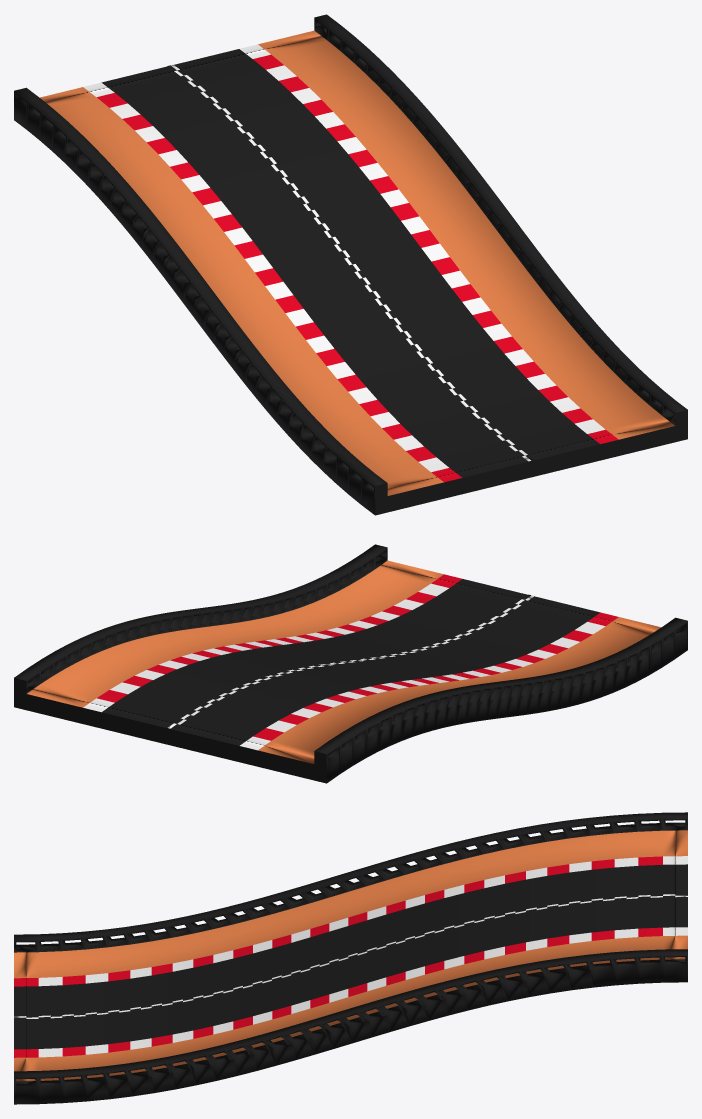
The model's file is ModularTrackRamp-Deux.fbx.
3 renders of one model, top to bottom at view 1: azimuth 30°, elevation 25°; view 2: azimuth 150°, elevation 25°; view 3: azimuth 270°, elevation 25°, orthographic. The views are drawn at different scales.
Visible parts, largest first — view 1: ModularTrackRamp, LaneDivider.002; view 2: ModularTrackRamp, LaneDivider.002; view 3: ModularTrackRamp, LaneDivider.002.
Boxes of the visible parts, x1,y1,x2,y2 form: ModularTrackRamp: (14,14,687,515); LaneDivider.002: (167,64,534,461); ModularTrackRamp: (14,544,687,783); LaneDivider.002: (168,594,534,729); ModularTrackRamp: (14,812,687,1104); LaneDivider.002: (14,894,687,1019).
Bounding box in the file's own units: 1000 × 490 × 2000.
